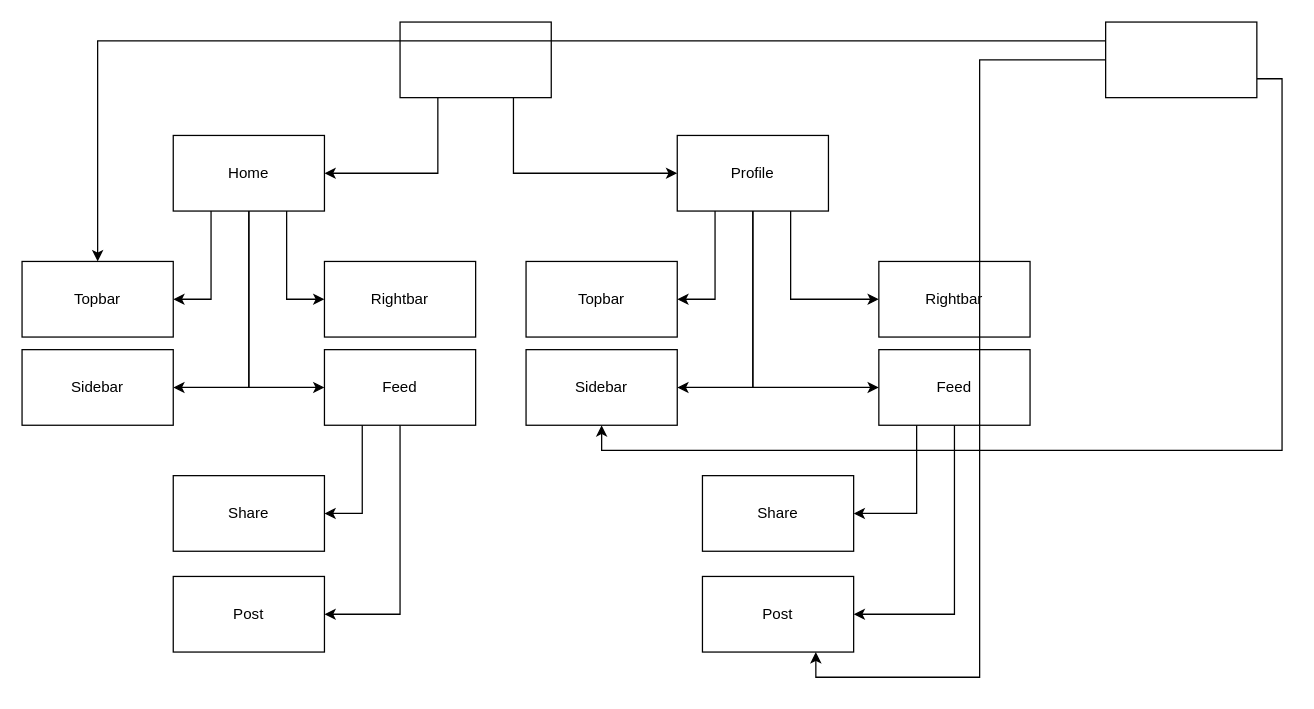
Image size: 1314x709. Some labels were removed from this diagram. Here are the shapes that lost their labels. From the top down, the centre of each, then its label:
(x=475, y=59): App
(x=1180, y=59): Redux/Context State currentUser
